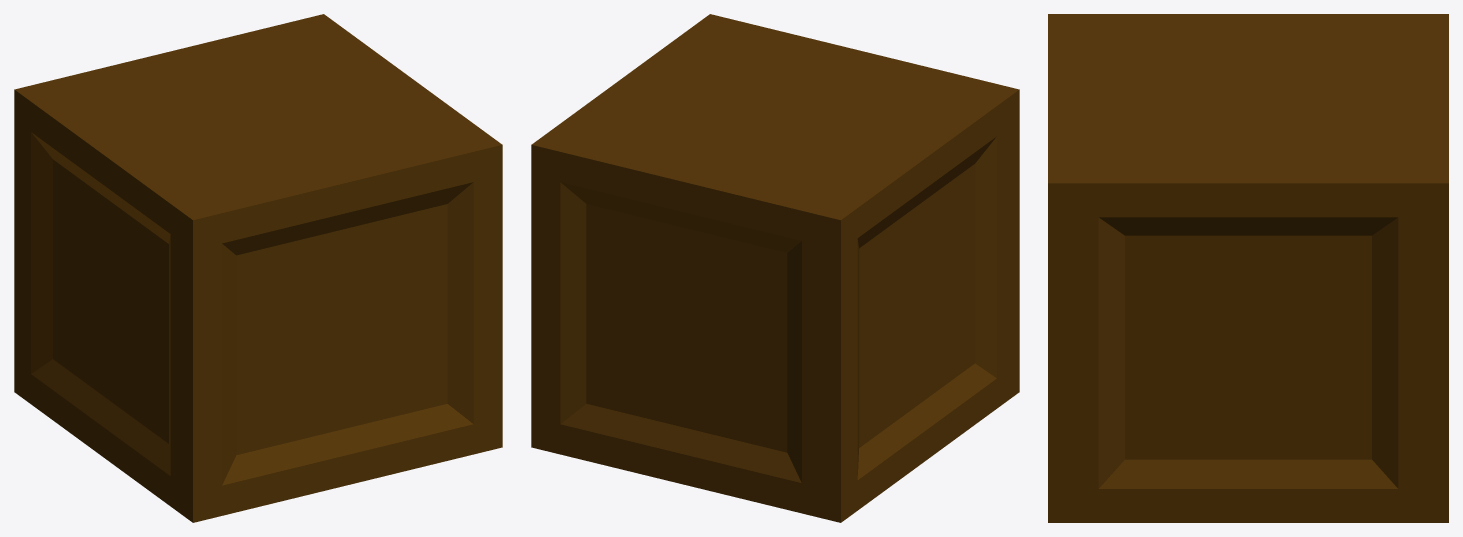
The model's file is chest.fbx.
3 renders of one model, left to right at view 1: azimuth 30°, elevation 25°; view 2: azimuth 150°, elevation 25°; view 3: azimuth 270°, elevation 25°, orthographic. The views are drawn at different scales.
Visible parts, largest first — view 1: Cube; view 2: Cube; view 3: Cube.
Part boxes in pixels (bbox=[...]): Cube: bbox=[14, 14, 502, 522]; Cube: bbox=[531, 14, 1019, 522]; Cube: bbox=[1048, 14, 1448, 522].
Size of the model in its own units: 214 by 200 by 214.
